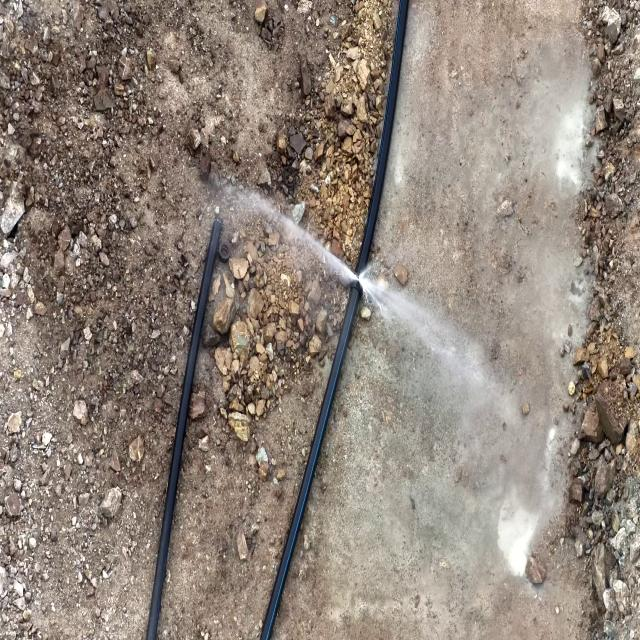leak: (269, 206, 414, 335)
